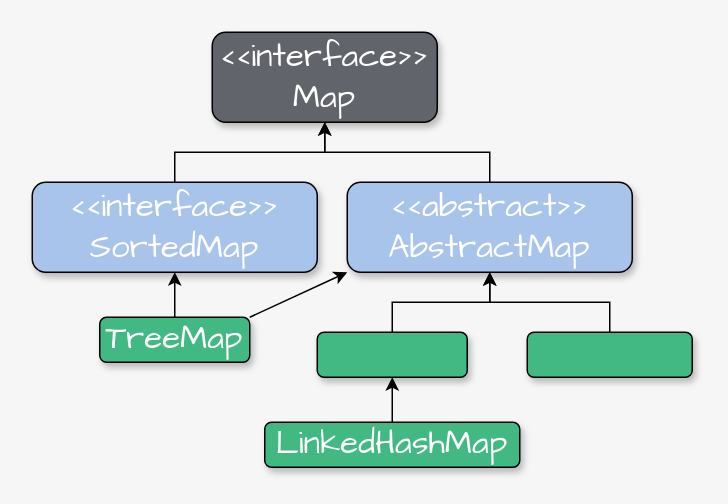
Image size: 728x504. Some labels were removed from this diagram. Each missing label, with the centre of its shape:
"HashMap" belongs at (393,356).
"HashTable" belongs at (610,356).
